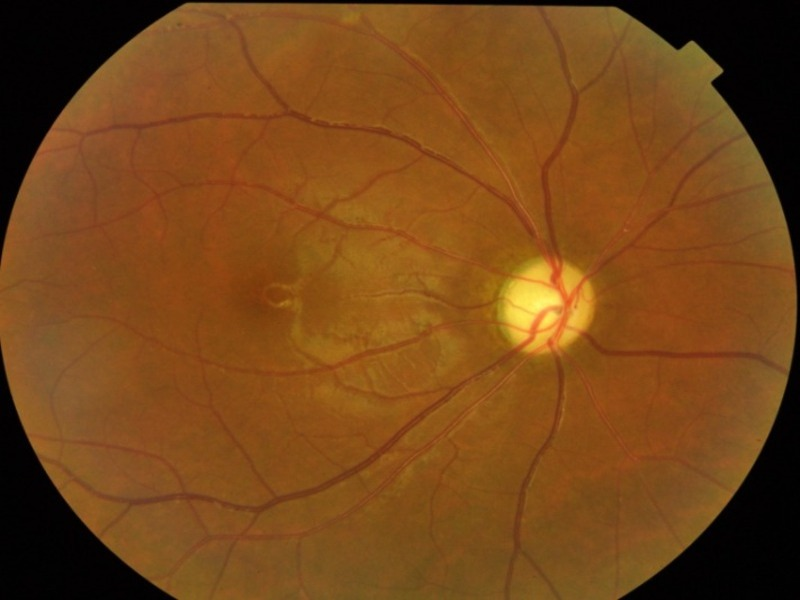Optic Cup: (503, 279, 558, 325)
Optic Disc: (494, 254, 595, 359)
